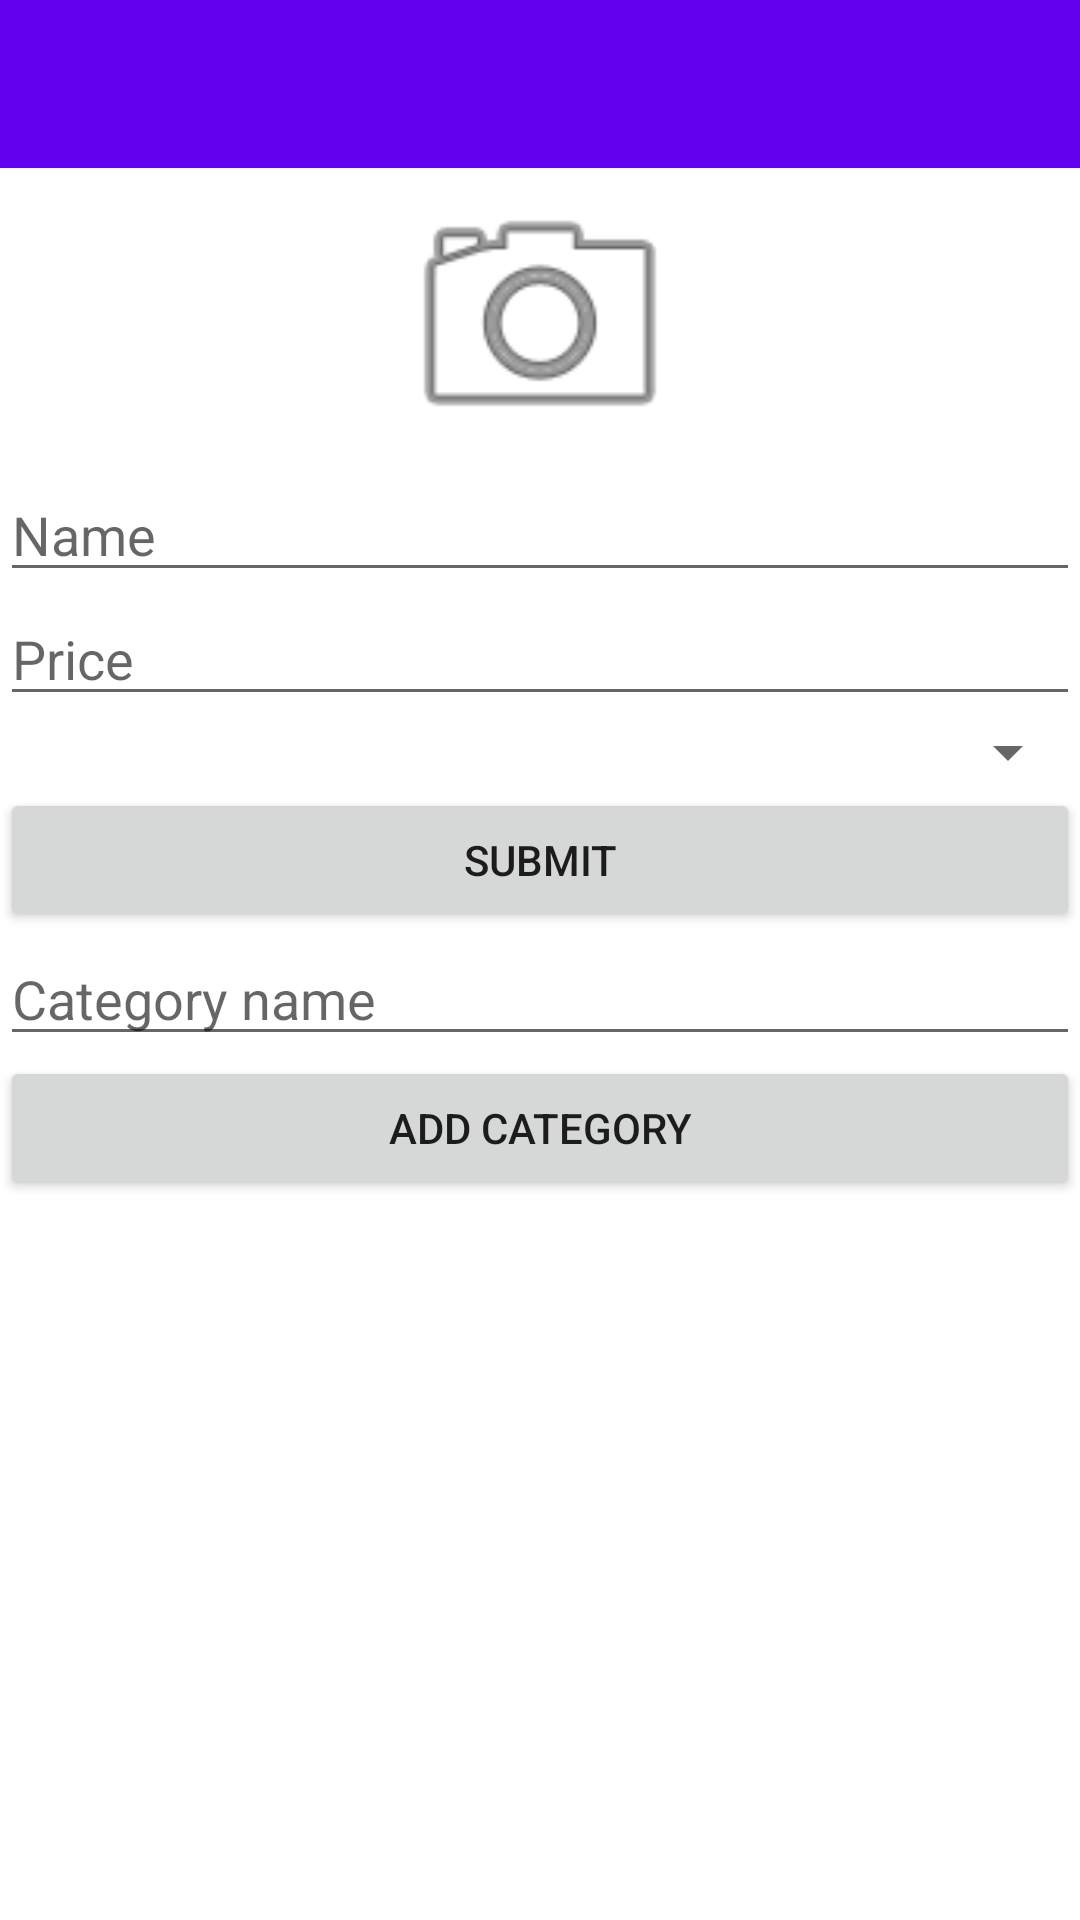

Where to tap for icons on this 1080 x 1920 app screen, as [x,y]:
camera: [540,313]
